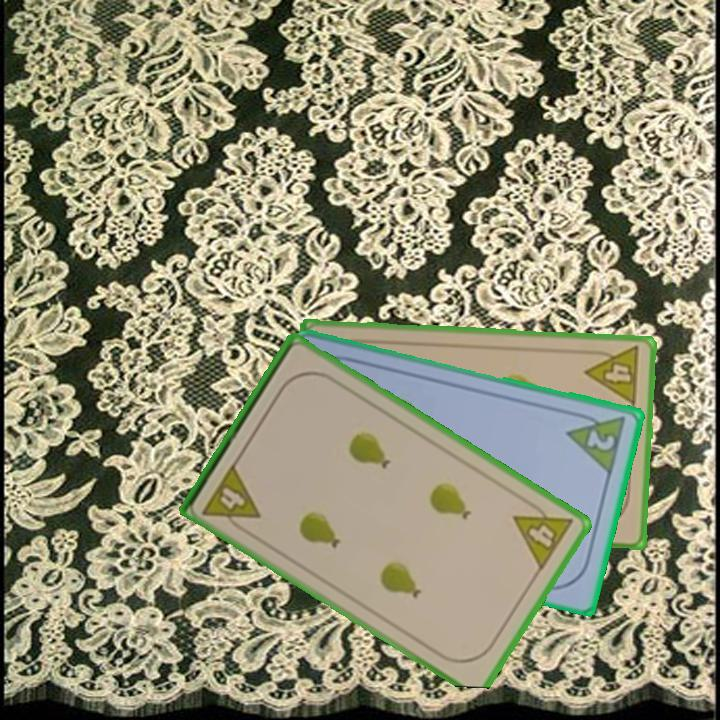2p: (564, 407, 629, 477)
4p: (509, 494, 576, 574), (198, 459, 264, 537), (582, 343, 643, 408)
